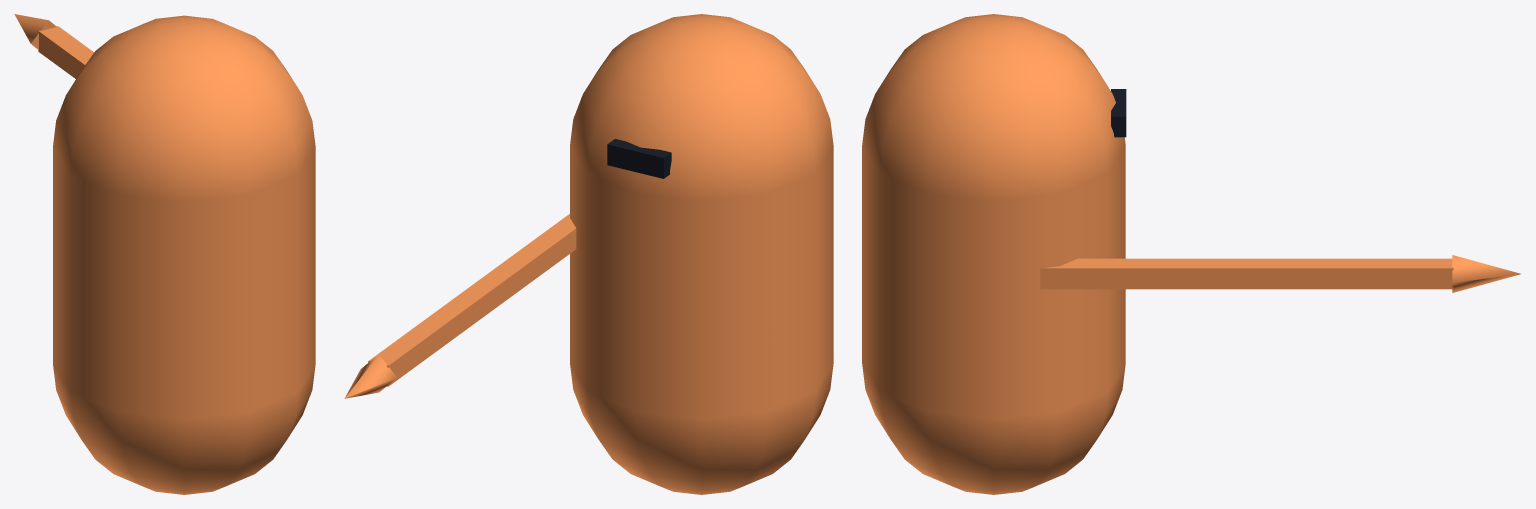
Rendered from enemy-playground-rusted-greatsworder-v1.glb.
3 renders of one model, left to right at view 1: azimuth 30°, elevation 25°; view 2: azimuth 150°, elevation 25°; view 3: azimuth 270°, elevation 25°, orthographic.
Visible parts, largest first — view 1: Rusted Greatsworder; view 2: Rusted Greatsworder; view 3: Rusted Greatsworder.
Part boxes in pixels (<box>): Rusted Greatsworder: <box>14,14,315,494</box>; Rusted Greatsworder: <box>344,14,833,494</box>; Rusted Greatsworder: <box>862,14,1520,494</box>.
Size of the model in its own units: 1.38 by 2.62 by 3.44.
